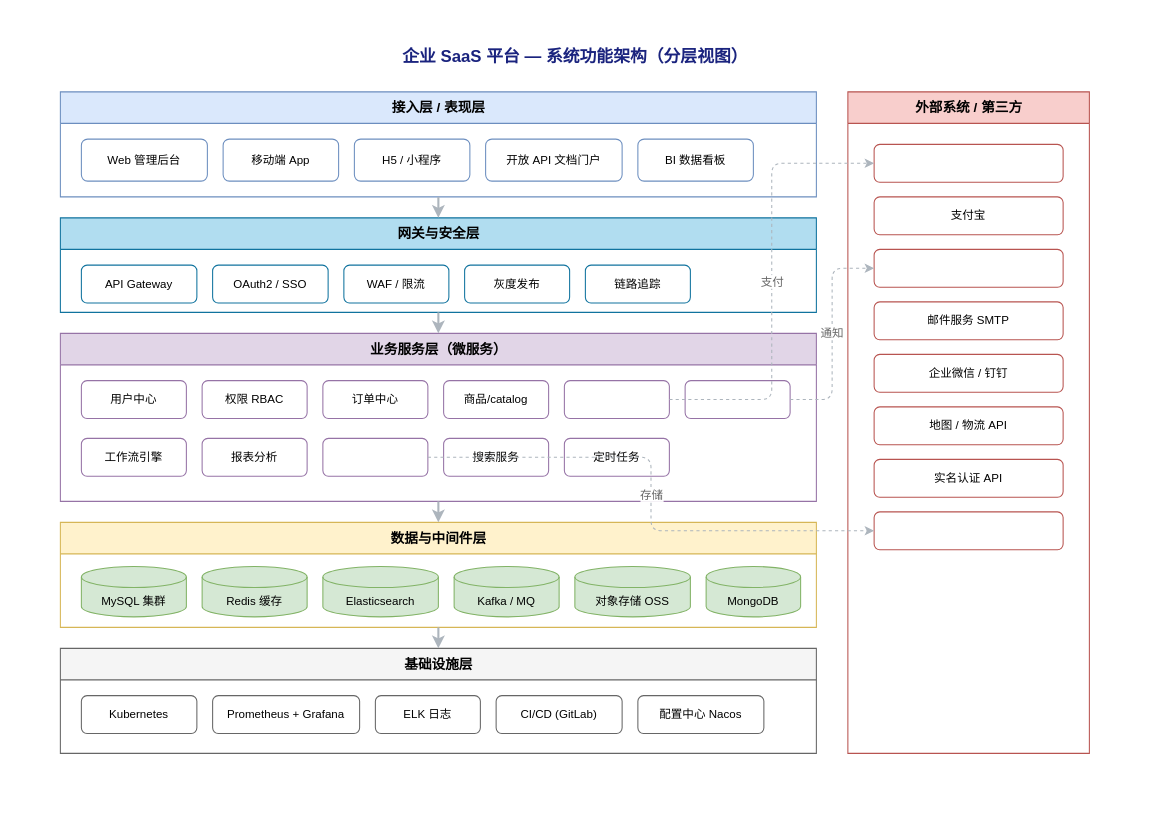
The diagram is 1149 pixels wide and 813 high, and some of its shapes have lost their labels. The centre of each missing label's shape, as x and y in pixels:
"对象存储 CDN" goes at (x=968, y=530).
"微信支付" goes at (x=968, y=162).
"支付结算" goes at (x=616, y=399).
"文件服务" goes at (x=375, y=456).
"消息通知" goes at (x=737, y=399).
"短信网关" goes at (x=968, y=267).
